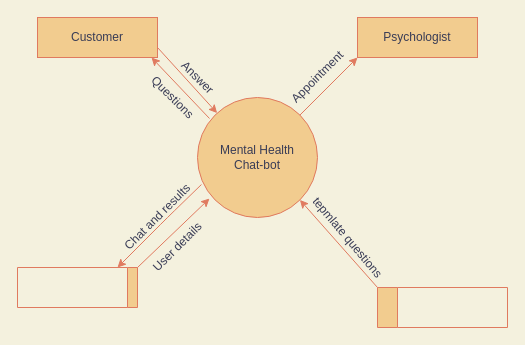
The diagram is 525 pixels wide and 345 high, and some of its shapes have lost their labels. The shapes that lost their labels are listed below. From the top down, each one's box as (x1, y1, x2, y2) in pixels, then its label:
(16, 266, 138, 308): User history
(376, 286, 508, 328): Questionnaire
